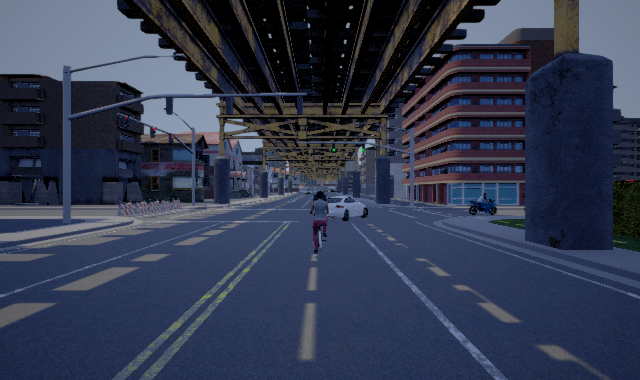bike: (307, 191, 332, 253)
motobike: (468, 199, 497, 215)
traffic_light: (122, 116, 129, 130), (150, 126, 157, 138), (169, 133, 175, 144), (362, 143, 365, 152), (332, 143, 335, 152)
vehicle: (322, 192, 368, 221)
